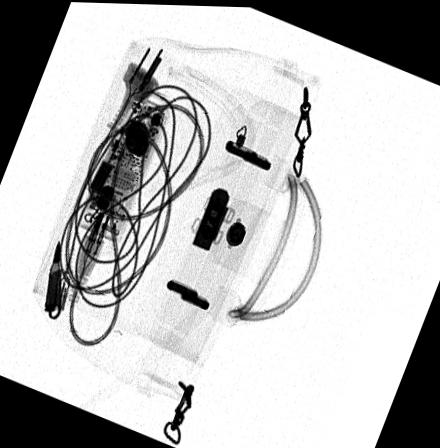Bullet: (43, 236, 62, 312)
